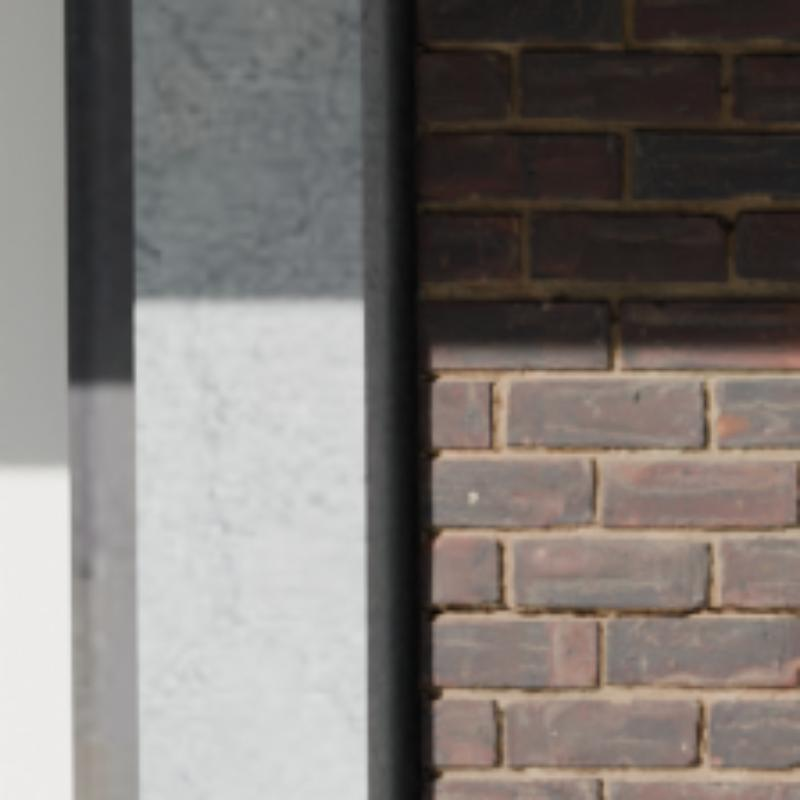crack: (432, 604, 796, 614)
